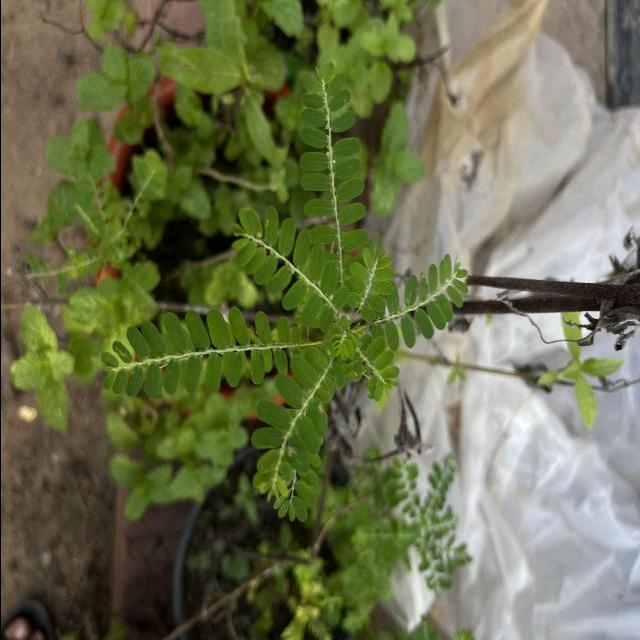Phyllanthus niruri: (96, 304, 302, 398), (298, 59, 372, 304), (229, 206, 351, 334), (248, 346, 340, 507), (356, 254, 471, 352)
